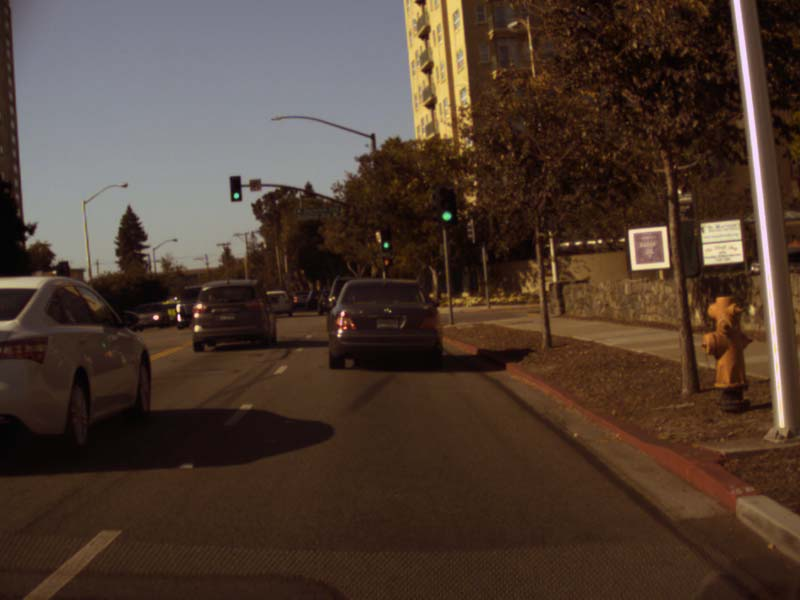Green: (439, 188, 455, 222), (230, 176, 240, 201), (382, 231, 391, 250)
